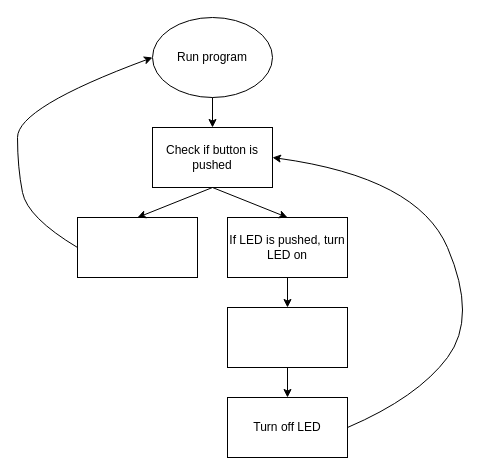
This 480x475 diagram has some shape labels left out. Here are the shapes that lost their labels. From the top down, the box of each, then its label:
(76, 216, 198, 278): If LED is not pushed keep checking
(226, 306, 348, 368): Wait 500ms
